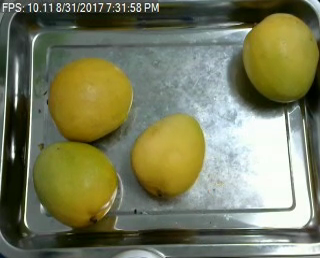Mango: (33, 142, 118, 226), (48, 57, 131, 142), (243, 12, 320, 102), (130, 113, 204, 196)
